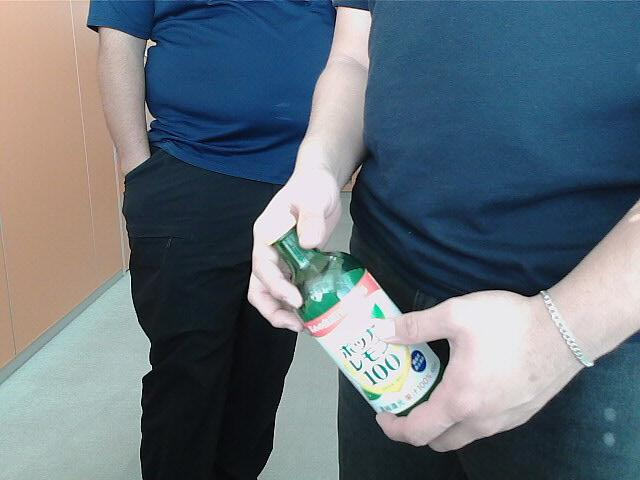Lemon_sapporo: (251, 205, 458, 440)
